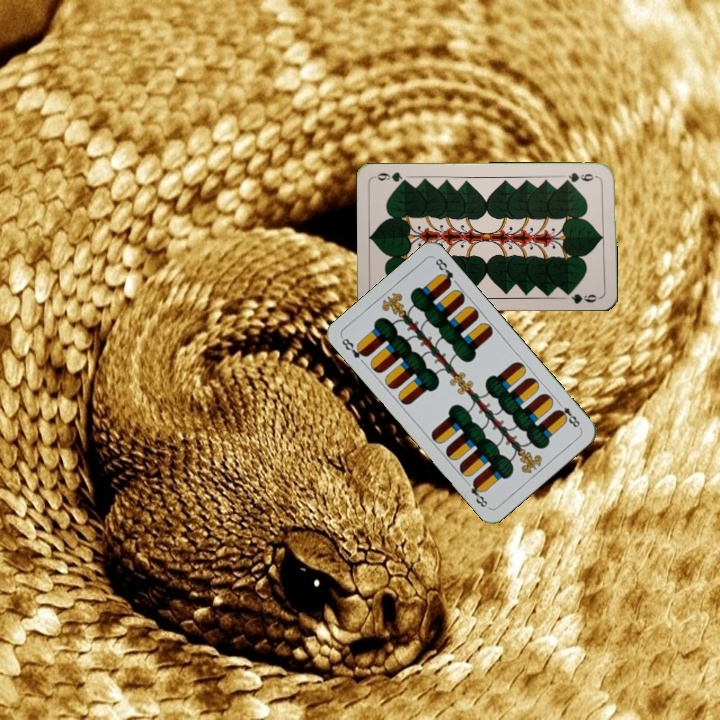E8: (552, 397, 583, 431), (337, 334, 371, 361)
G9: (560, 168, 600, 185)
